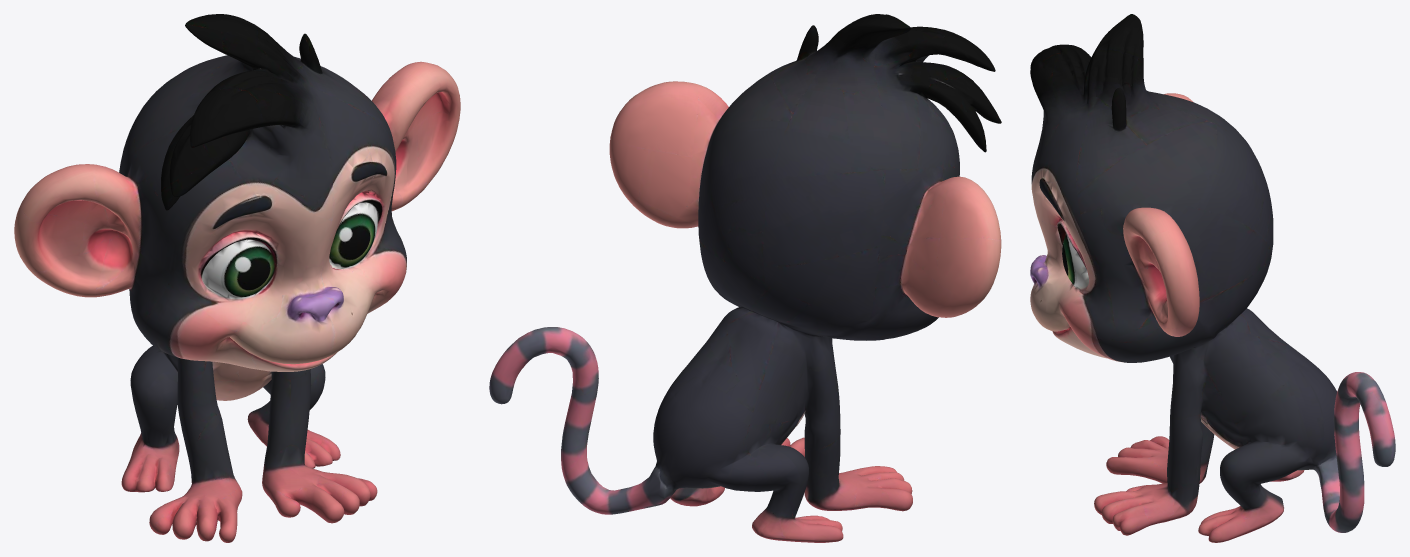
Rendered from monkey-c.glb.
3 views of the same model, side by side, from view 1: azimuth 30°, elevation 25°; view 2: azimuth 150°, elevation 25°; view 3: azimuth 270°, elevation 25° (orthographic). The views are drawn at different scales.
Size of the model in its own units: 1.71 by 1.9 by 1.41.
Materials: 1 (1 with a texture image).
